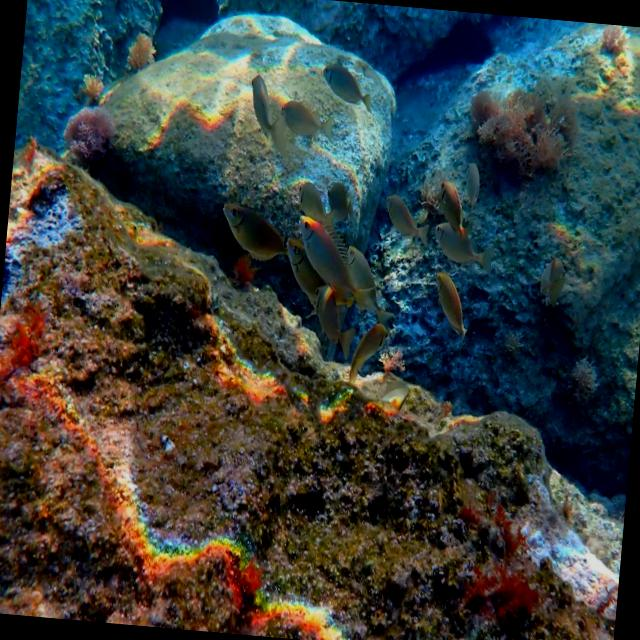Sokar Baligi: (311, 52, 382, 118), (422, 264, 477, 349)
